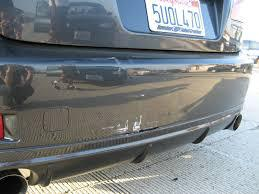rear-bumper-dent: (35, 70, 186, 151)
